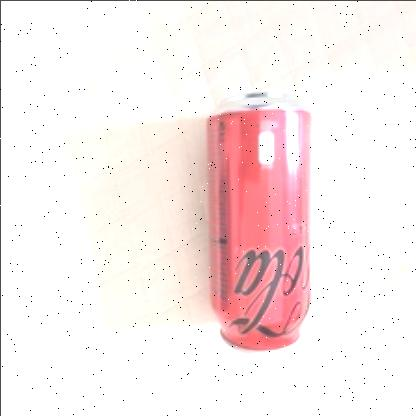Can: (204, 92, 314, 356)
